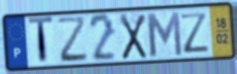2: (87, 11, 120, 65)
M: (144, 10, 184, 59)
T: (27, 15, 55, 67)
X: (118, 12, 148, 62)
Z: (55, 14, 91, 65), (178, 11, 211, 55)
